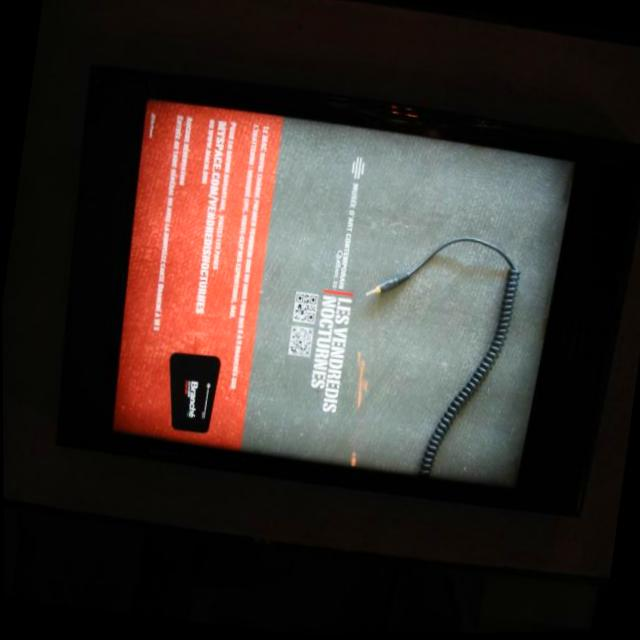qrcode: (288, 329, 312, 358), (293, 295, 316, 325)
